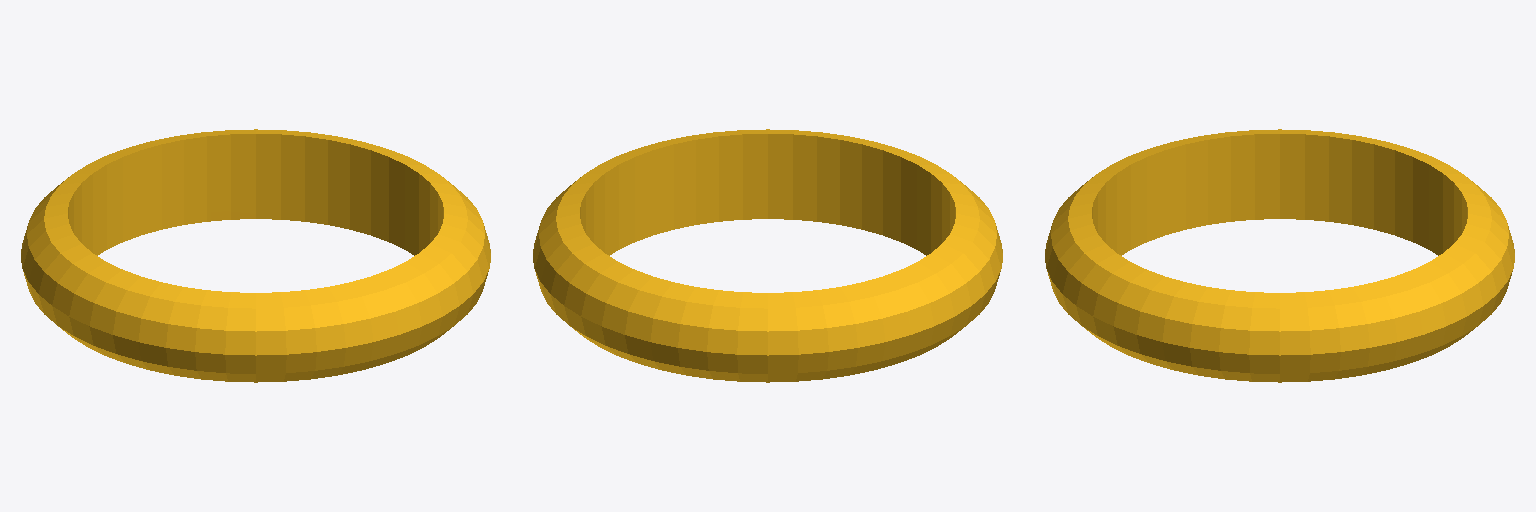
3 views of the same model, side by side, from view 1: azimuth 30°, elevation 25°; view 2: azimuth 150°, elevation 25°; view 3: azimuth 270°, elevation 25° (orthographic).
Parts seen in each view (by area): view 1: Torus; view 2: Torus; view 3: Torus.
Boxes of the visible parts, x1,y1,x2,y2 form: Torus: [21, 129, 490, 382]; Torus: [533, 129, 1002, 382]; Torus: [1045, 129, 1514, 382].
Size of the model in its own units: 2.5 by 0.5 by 2.5.
Materials: 1 (1 with a texture image).